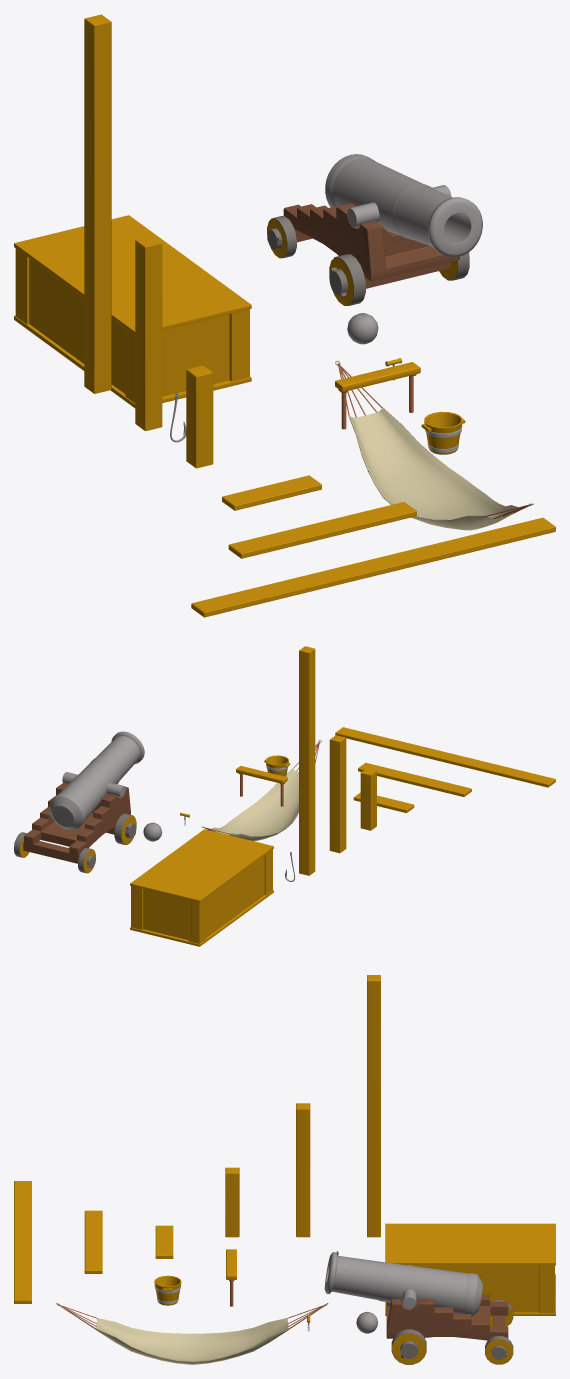
File: stuff2.glb
3 renders of one model, top to bottom at view 1: azimuth 30°, elevation 25°; view 2: azimuth 150°, elevation 25°; view 3: azimuth 270°, elevation 25°, orthographic. The views are drawn at different scales.
Visible parts, largest first — view 1: box, log-20, lafet, hammock, cannon, plank-20, log-10, plank-10, log-05, plank-05, strickleiter, bucket (+1 smaller); view 2: box, lafet, cannon, log-20, hammock, plank-20, log-10, plank-10, log-05, strickleiter, plank-05, bucket; view 3: box, cannon, lafet, hammock, log-20, plank-20, log-10, plank-10, log-05, bucket, plank-05.
Part boxes in pixels (x1,y1,x2,y2): box: (14,215,251,408); log-20: (84,14,111,393); lafet: (267,203,469,305); hammock: (335,360,533,530); cannon: (325,154,482,257); plank-20: (191,517,555,617); log-10: (135,236,162,431); plank-10: (228,502,416,558); log-05: (186,365,213,468); plank-05: (222,475,321,510); strickleiter: (335,362,420,429); bucket: (421,411,465,454); box: (130,829,273,946); lafet: (14,782,136,873); cannon: (49,731,144,829); log-20: (299,646,315,875); hammock: (201,740,321,841); plank-20: (335,727,555,787); log-10: (329,735,346,853); plank-10: (358,762,471,796); log-05: (360,768,376,830); strickleiter: (236,766,287,806); plank-05: (353,792,414,813); bucket: (264,755,290,776); box: (385,1223,555,1315); cannon: (324,1252,482,1316); lafet: (386,1294,513,1364); hammock: (56,1303,328,1364); log-20: (367,975,380,1237); plank-20: (14,1181,31,1303); log-10: (296,1103,310,1237); plank-10: (84,1210,102,1273); log-05: (225,1167,239,1237); bucket: (154,1275,181,1305); plank-05: (155,1225,173,1258).
Size of the model in its own units: 6.17 by 4.85 by 7.66.
1 material, 1 textured.
